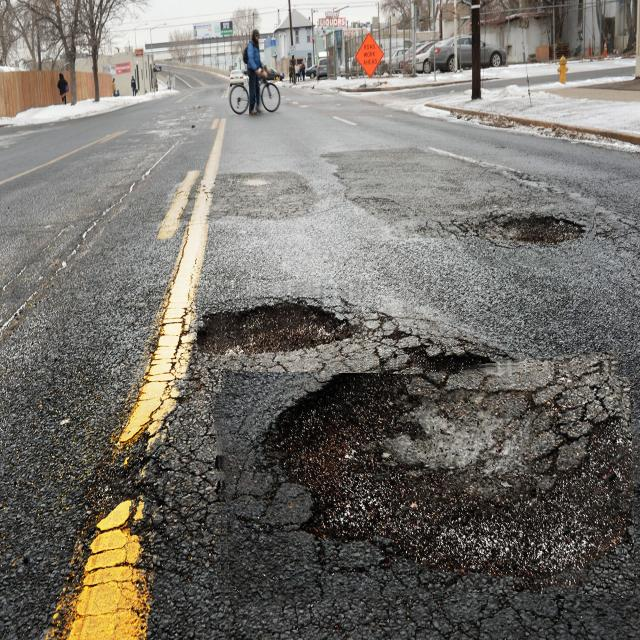Pothole: (216, 361, 634, 599), (197, 281, 365, 363), (479, 193, 597, 268)
